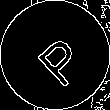P_NW: (24, 24, 86, 86)
